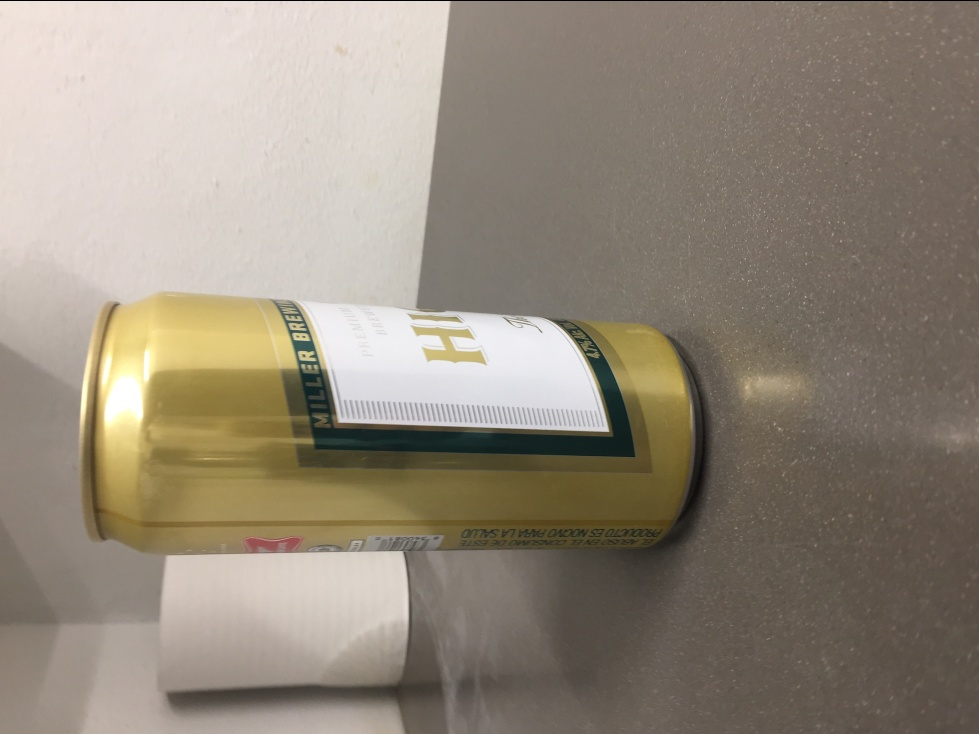miller: (69, 288, 712, 558)
